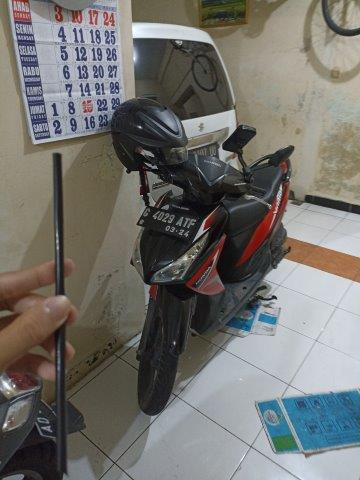sedotan: (52, 154, 66, 476)
